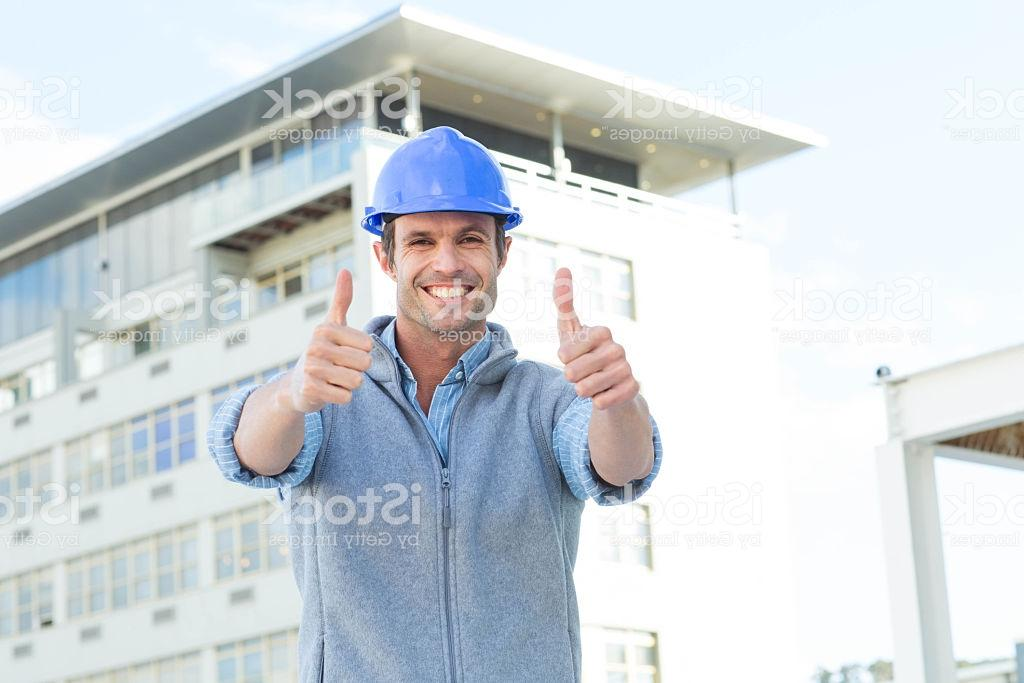thumbsup: (553, 265, 642, 410), (294, 268, 378, 410)
